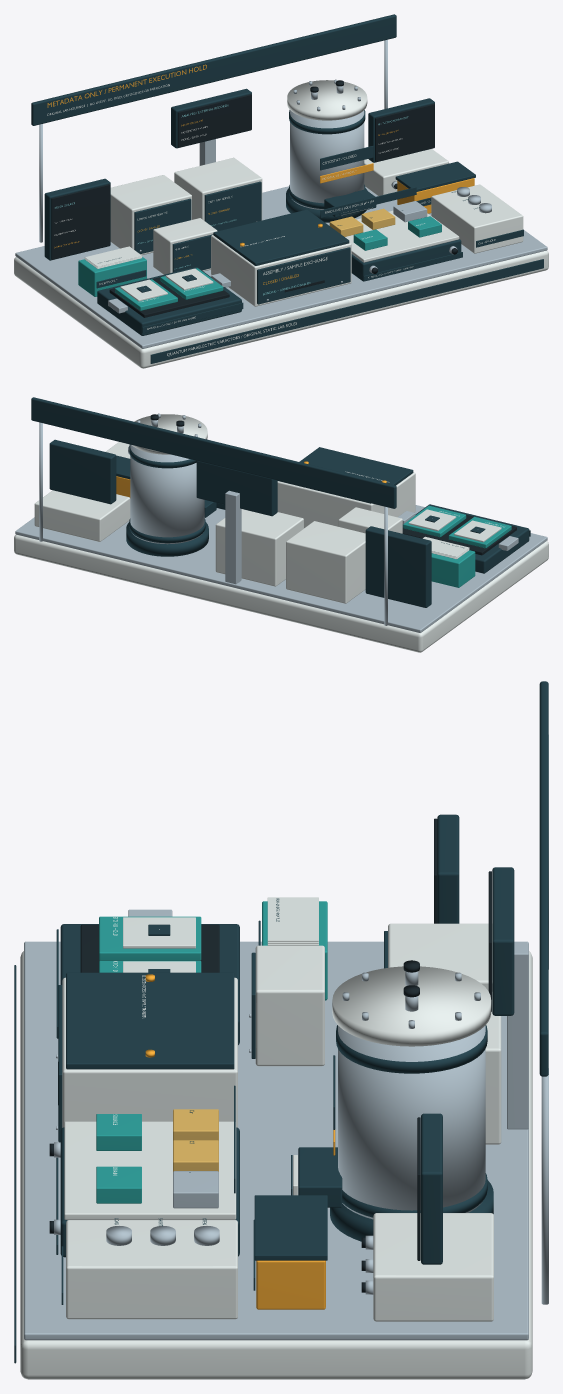
Rendered from varactor_lab.glb.
The picture shows the model from 3 angles, top to bottom: view 1: azimuth 30°, elevation 25°; view 2: azimuth 150°, elevation 25°; view 3: azimuth 270°, elevation 25°; orthographic projection. The views are drawn at different scales.
Visible parts, largest first — view 1: bench.top, hold.sign, bench.base, cryo.closed_vessel, assembly.closed_lid, bench.title.plate, calibration.reference_case, design.face, assembly.closed_door, cleanroom.enclosure, analysis.face, rf.face (+38 smaller); view 2: bench.base, bench.top, hold.sign, cleanroom.enclosure, cryo.closed_vessel, design.body, nanotube.enclosure, rf.body, rf.base, assembly.enclosure, analysis.body, assembly.closed_lid (+16 smaller); view 3: bench.top, bench.base, cryo.closed_vessel, assembly.closed_lid, calibration.reference_case, rf.base, circuit.closed_cover, cryo.closed_top, assembly.enclosure, field.enclosure, cleanroom.enclosure, hold.storage_lid (+25 smaller).
Boxes of the visible parts, box(x1,y1,x2,y2) form: bench.top: box(15, 186, 547, 348); hold.sign: box(31, 14, 396, 125); bench.base: box(14, 250, 548, 368); cryo.closed_vessel: box(290, 110, 364, 209); assembly.closed_lid: box(213, 209, 349, 265); bench.title.plate: box(150, 259, 543, 363); calibration.reference_case: box(431, 184, 523, 253); design.face: box(51, 184, 110, 259); assembly.closed_door: box(257, 247, 350, 304); cleanroom.enclosure: box(110, 175, 191, 255); analysis.face: box(177, 94, 251, 147); rf.face: box(375, 104, 434, 161); bench.base: box(14, 534, 548, 652); bench.top: box(15, 505, 547, 632); hold.sign: box(31, 397, 396, 508); cleanroom.enclosure: box(286, 521, 365, 603); cryo.closed_vessel: box(130, 444, 204, 544); design.body: box(365, 526, 431, 607); nanotube.enclosure: box(215, 509, 303, 586); rf.body: box(49, 439, 116, 504); rf.base: box(34, 490, 130, 541); assembly.enclosure: box(277, 472, 415, 527); analysis.body: box(196, 461, 277, 516); assembly.closed_lid: box(278, 447, 413, 503); bench.top: box(24, 941, 528, 1340); bench.base: box(20, 951, 532, 1379); cryo.closed_vessel: box(338, 1025, 485, 1219); assembly.closed_lid: box(66, 972, 234, 1069); calibration.reference_case: box(66, 1220, 237, 1319); rf.base: box(373, 1213, 493, 1321); circuit.closed_cover: box(64, 1121, 236, 1219); cryo.closed_top: box(332, 966, 491, 1046); assembly.enclosure: box(62, 977, 237, 1127); field.enclosure: box(255, 945, 324, 1066); cleanroom.enclosure: box(388, 923, 492, 991); hold.storage_lid: box(254, 1195, 327, 1260).
Bounding box in the file's own units: 2.56 × 1 × 1.46.
